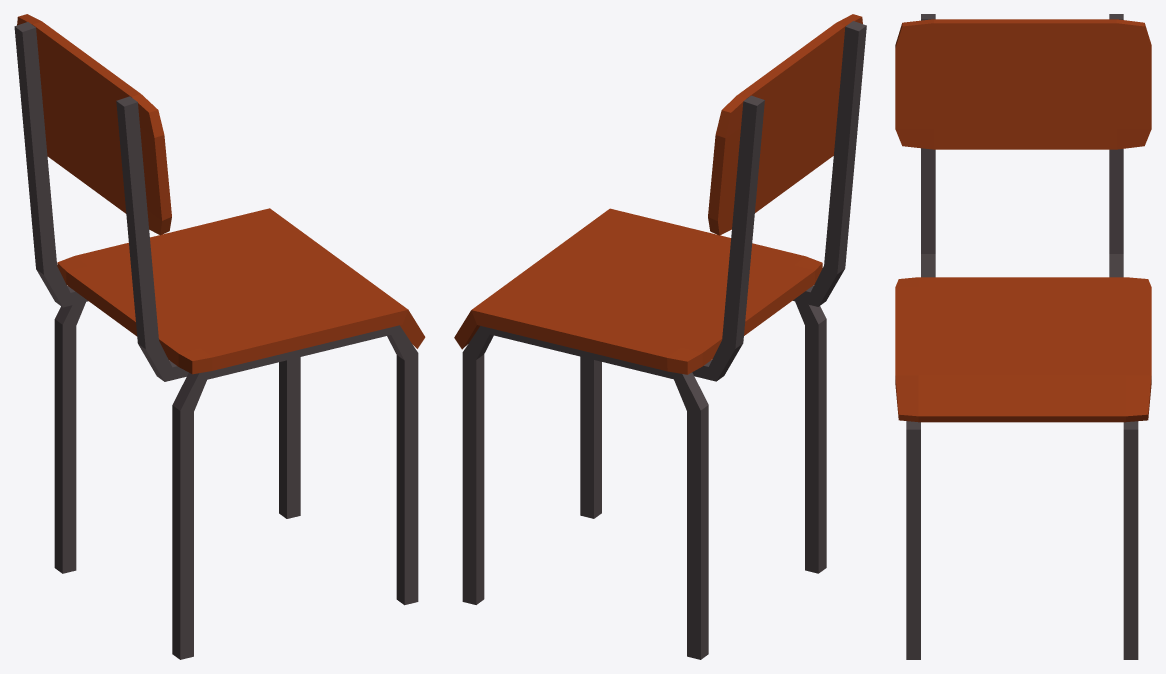
Rendered from School_Chair.obj.
3 renders of one model, left to right at view 1: azimuth 30°, elevation 25°; view 2: azimuth 150°, elevation 25°; view 3: azimuth 270°, elevation 25°, orthographic. The views are drawn at different scales.
Visible parts, largest first — view 1: Cube.005_Cube.012; view 2: Cube.005_Cube.012; view 3: Cube.005_Cube.012.
Boxes of the visible parts, x1=… form: Cube.005_Cube.012: x1=14, y1=14, x2=425, y2=659; Cube.005_Cube.012: x1=454, y1=14, x2=866, y2=659; Cube.005_Cube.012: x1=895, y1=14, x2=1151, y2=659.
Bounding box in the file's own units: 0.5022 × 0.9208 × 0.4121.
